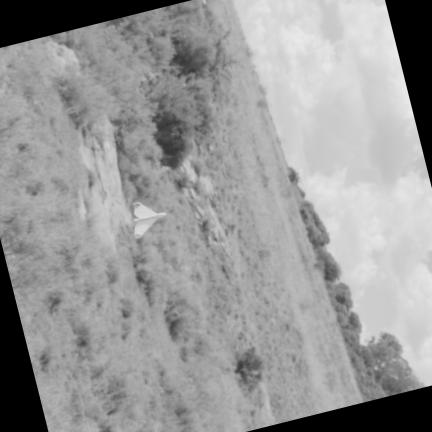Shahed: (133, 203, 164, 237)
